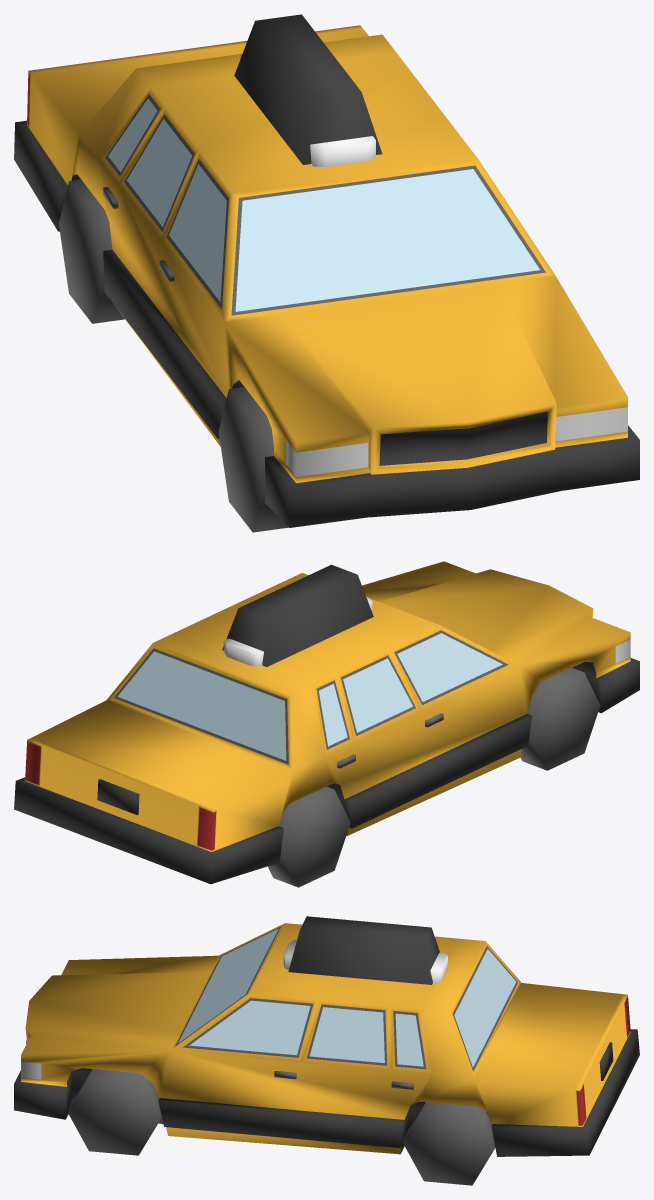
Rendered from taxionly.glb.
3 renders of one model, top to bottom at view 1: azimuth 30°, elevation 25°; view 2: azimuth 150°, elevation 25°; view 3: azimuth 270°, elevation 25°, orthographic. The views are drawn at different scales.
Visible parts, largest first — view 1: Taxi.002; view 2: Taxi.002; view 3: Taxi.002.
Part boxes in pixels (<box>): Taxi.002: <box>14,14,639,532</box>; Taxi.002: <box>14,561,639,887</box>; Taxi.002: <box>14,916,639,1185</box>.
Size of the model in its own units: 32.87 by 19.62 by 57.16.
1 material, 1 textured.
